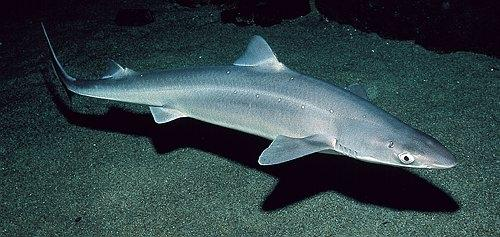Shark -Selachimorpha-: (37, 17, 461, 175)
